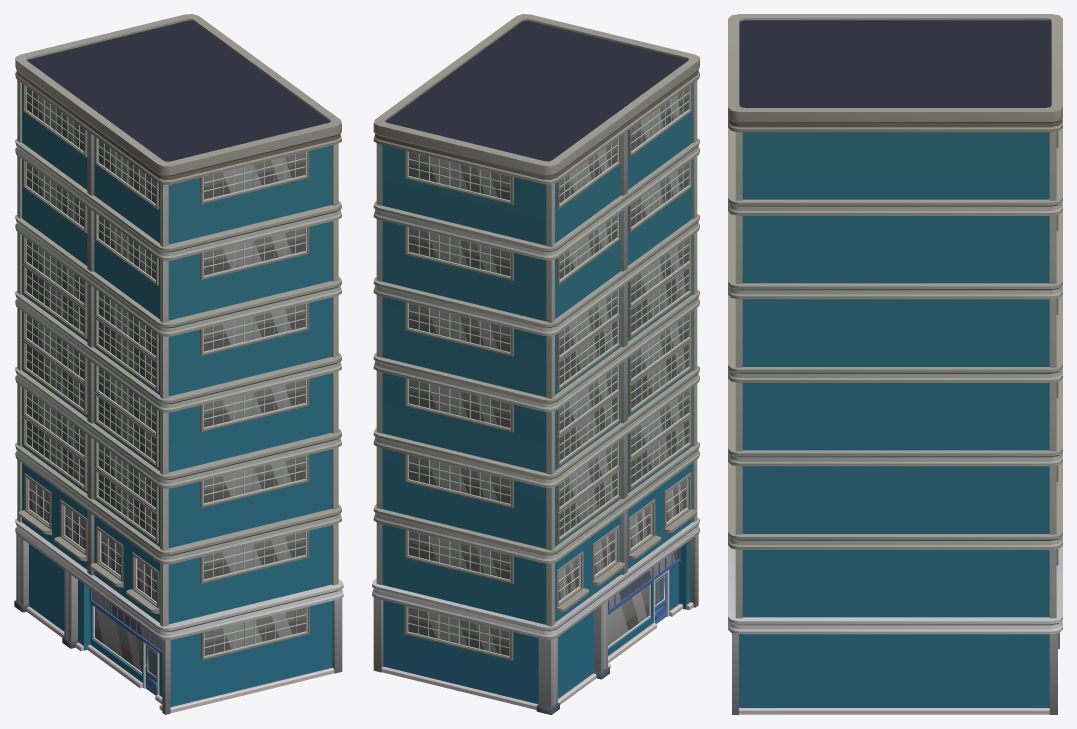
Rendered from Building_11_5_A.glb.
The picture shows the model from 3 angles, left to right: view 1: azimuth 30°, elevation 25°; view 2: azimuth 150°, elevation 25°; view 3: azimuth 270°, elevation 25°; orthographic projection. The views are drawn at different scales.
Visible parts, largest first — view 1: Building_11_5_A; view 2: Building_11_5_A; view 3: Building_11_5_A.
Part boxes in pixels (x1=…): Building_11_5_A: x1=14, y1=14, x2=343, y2=714; Building_11_5_A: x1=372, y1=14, x2=699, y2=714; Building_11_5_A: x1=728, y1=14, x2=1062, y2=714.
Bounding box in the file's own units: 8.27 × 23.14 × 11.63.
3 materials, 3 textured.
